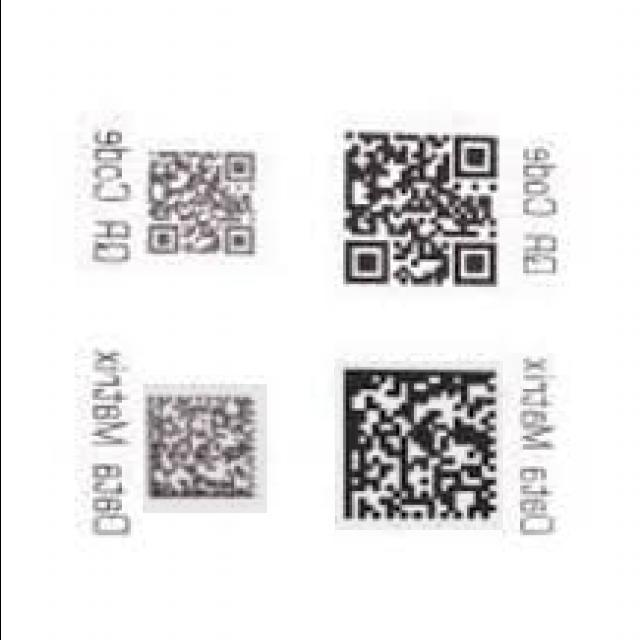Data-Matrix: (334, 361, 502, 530), (142, 384, 266, 513)
